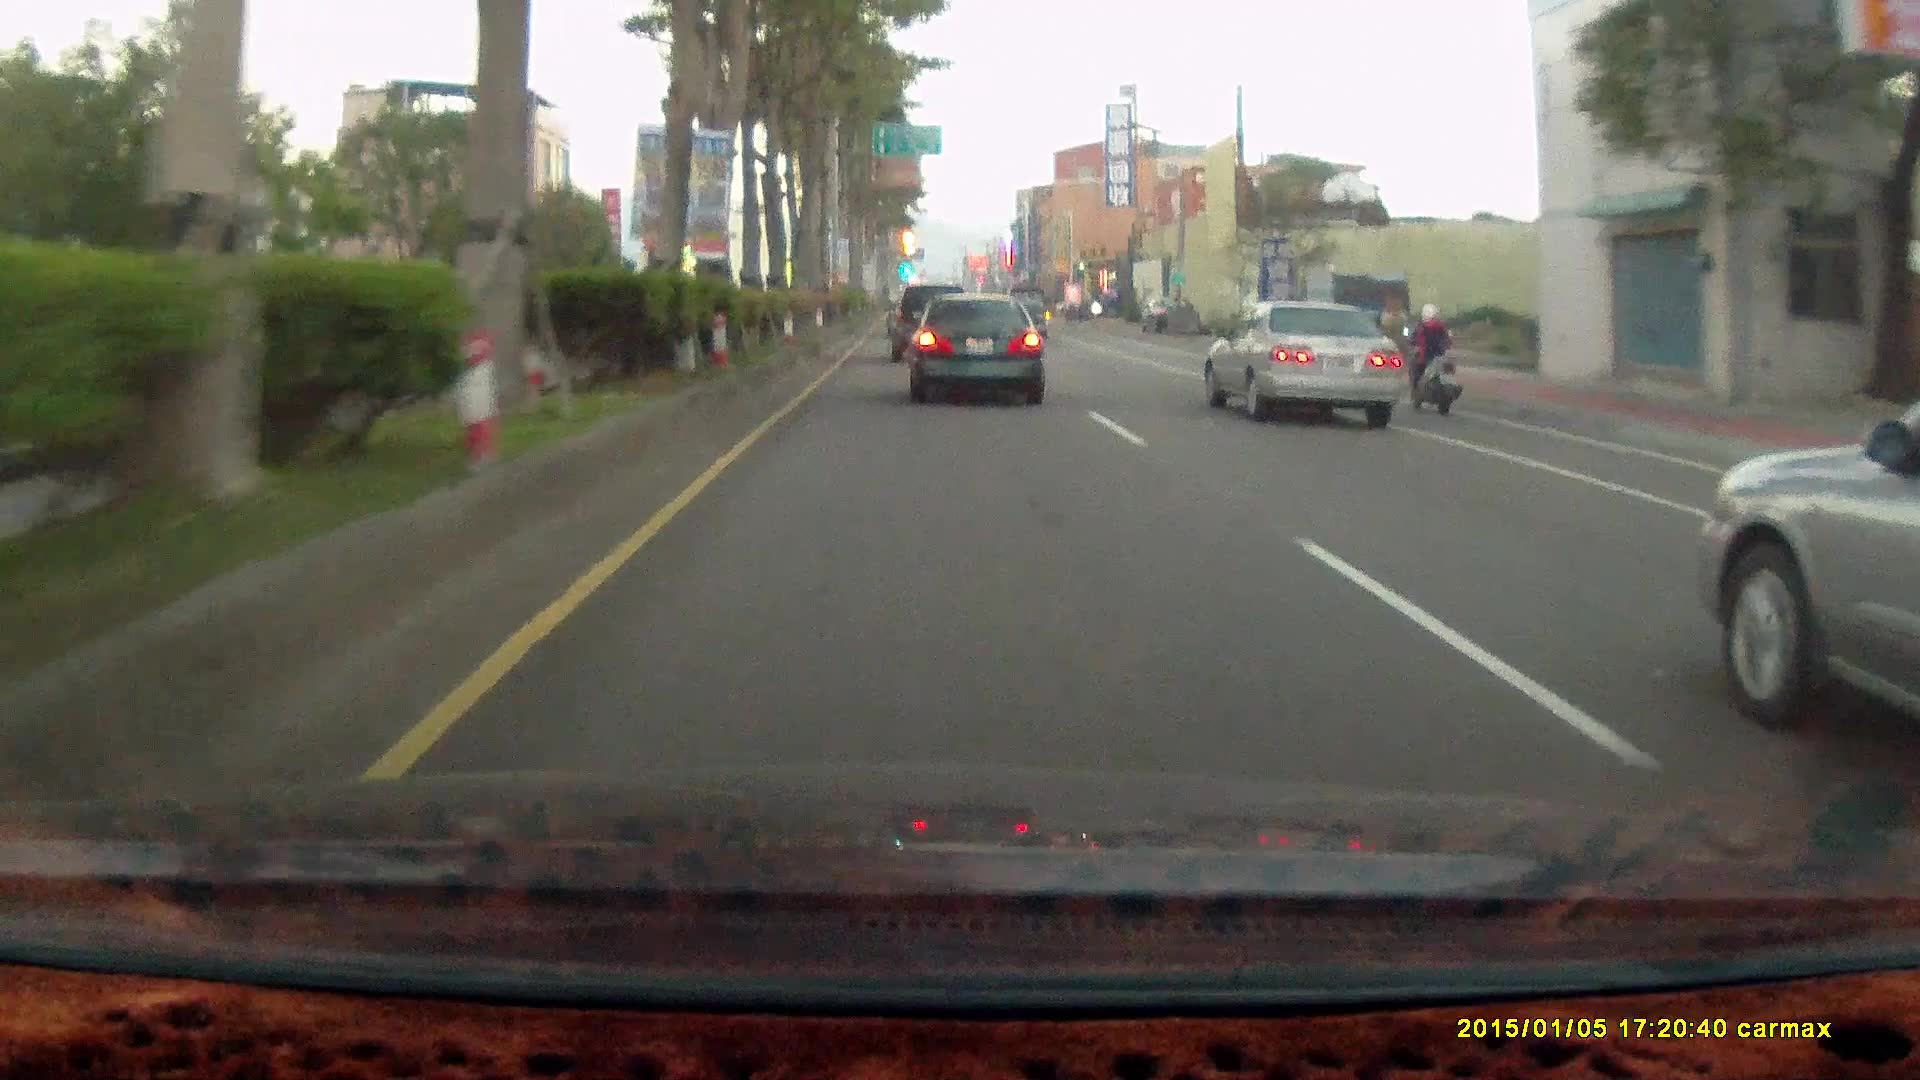rider: (1391, 291, 1471, 421), (1398, 301, 1463, 415)
vehicle: (1712, 392, 1920, 766), (1200, 301, 1403, 428), (1213, 302, 1406, 429), (905, 294, 1045, 406), (905, 294, 1044, 401), (1294, 275, 1410, 367), (890, 284, 972, 365), (889, 283, 972, 363), (1004, 288, 1049, 340), (1089, 285, 1148, 320)
